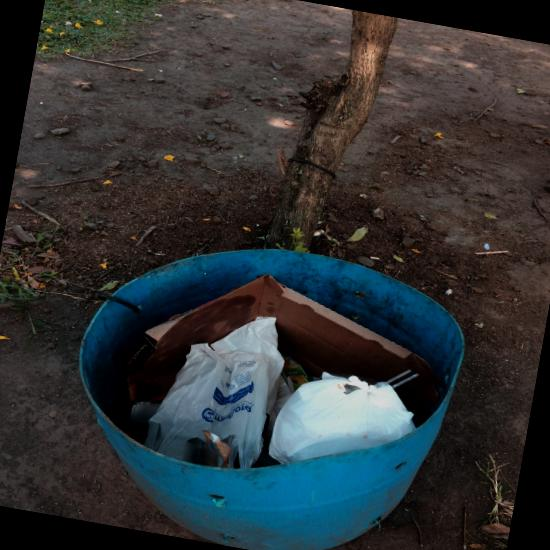Cigarette: (369, 256, 379, 259)
Drink carton: (280, 356, 310, 391)
Paper cup: (130, 403, 161, 426)
Pizza box: (115, 273, 444, 412)
Plastic film: (201, 429, 230, 468)
Plastic straw: (391, 372, 419, 388), (385, 369, 411, 383)
Single-use carrier bag: (143, 316, 292, 468), (268, 371, 416, 463)
